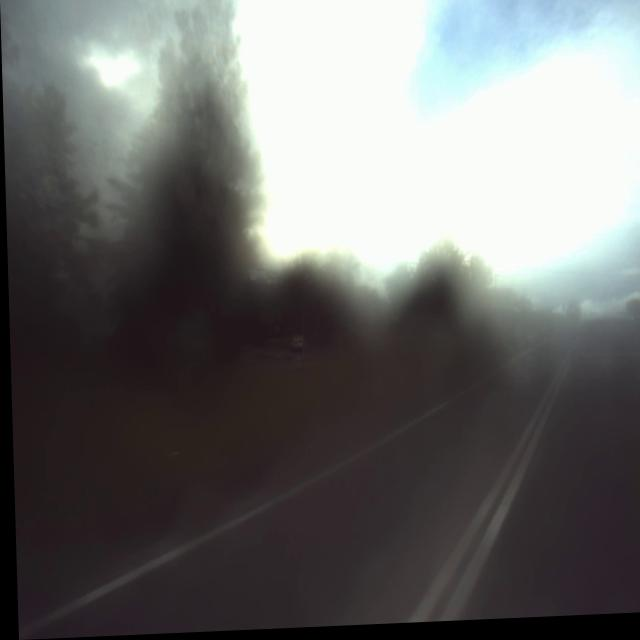car: (566, 315, 640, 423)
